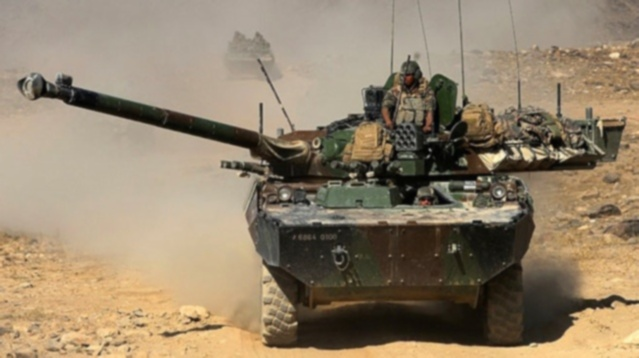license_plate: (292, 229, 339, 245)
